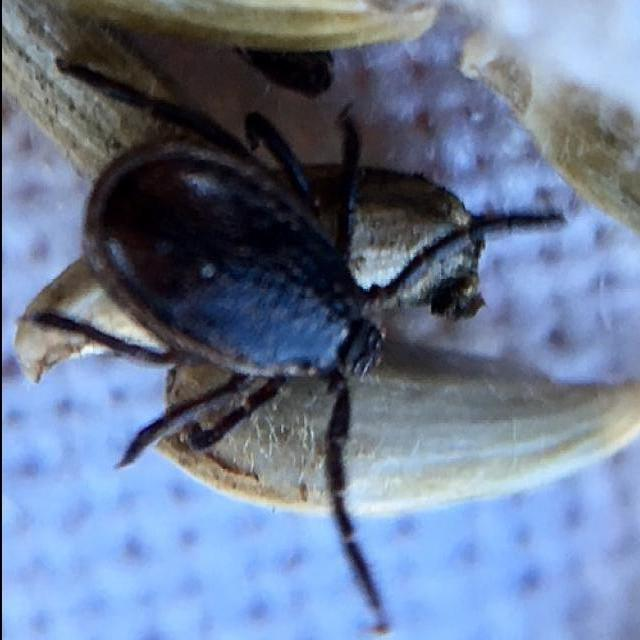Ixodes Ricinus-M: (22, 61, 566, 634)
